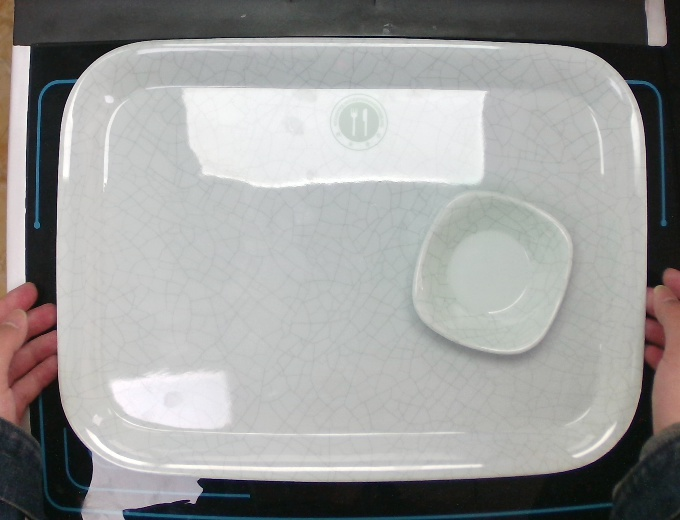JYsf-Si_Fang_Die: (410, 192, 573, 357)
